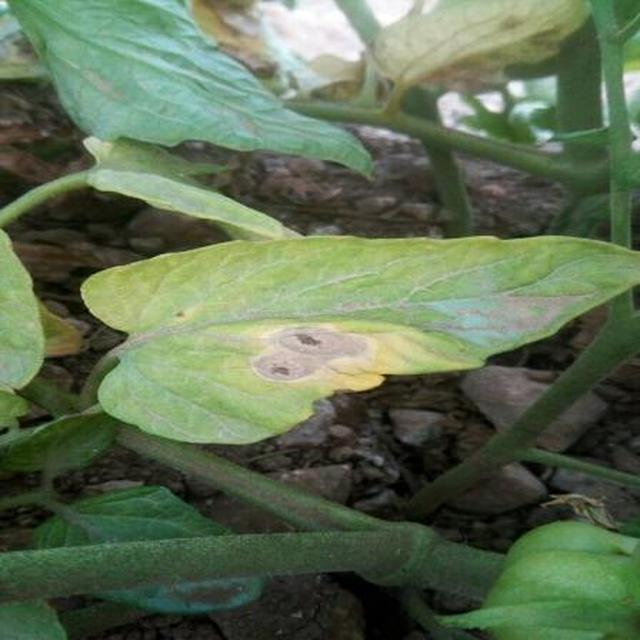Early Blight Leaf: (196, 332, 640, 636)
